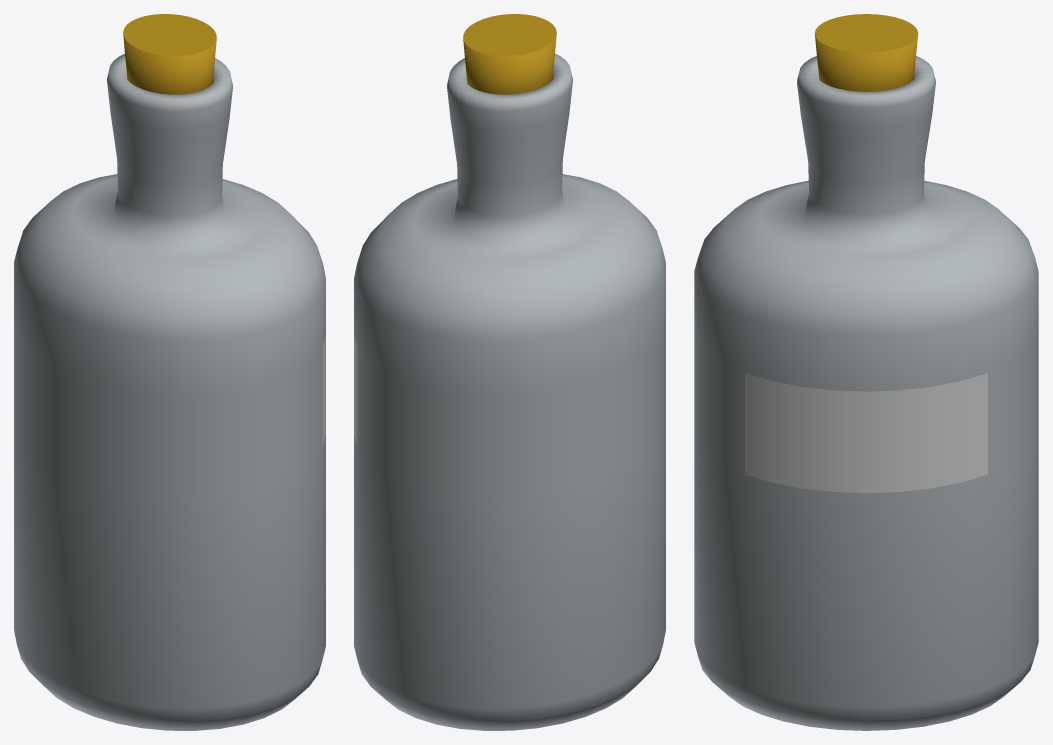
Rendered from Potion.glb.
3 views of the same model, side by side, from view 1: azimuth 30°, elevation 25°; view 2: azimuth 150°, elevation 25°; view 3: azimuth 270°, elevation 25° (orthographic).
Parts seen in each view (by area): view 1: Cylinder.018, Cylinder.001_Cylinder.002; view 2: Cylinder.018, Cylinder.001_Cylinder.002; view 3: Cylinder.018, Cylinder.001_Cylinder.002.
Boxes of the visible parts, <box> form: Cylinder.018: <box>14,53,325,730</box>; Cylinder.001_Cylinder.002: <box>123,14,216,94</box>; Cylinder.018: <box>354,53,665,730</box>; Cylinder.001_Cylinder.002: <box>463,14,556,94</box>; Cylinder.018: <box>694,56,1038,730</box>; Cylinder.001_Cylinder.002: <box>814,14,918,91</box>.
Size of the model in its own units: 2.05 by 4.75 by 2.31.
